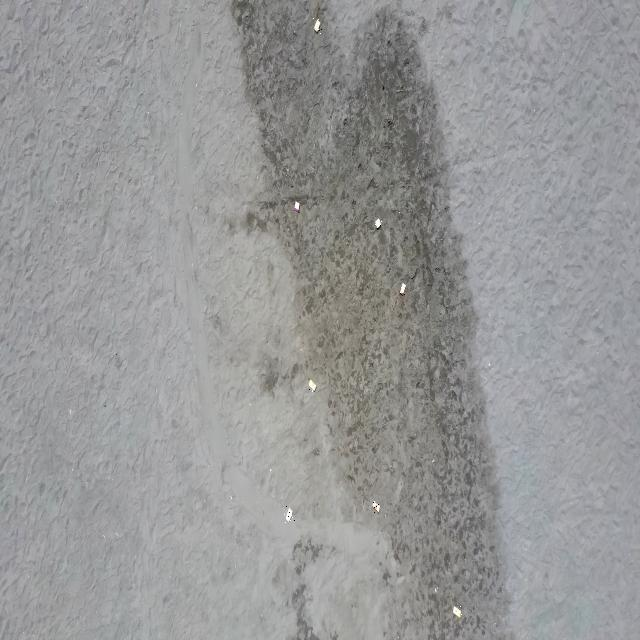Garbage: (307, 379, 316, 391), (284, 507, 292, 520), (313, 18, 320, 32), (292, 200, 300, 212), (372, 500, 379, 512), (452, 606, 460, 616), (375, 218, 380, 227), (400, 283, 404, 293), (433, 587, 436, 592)
